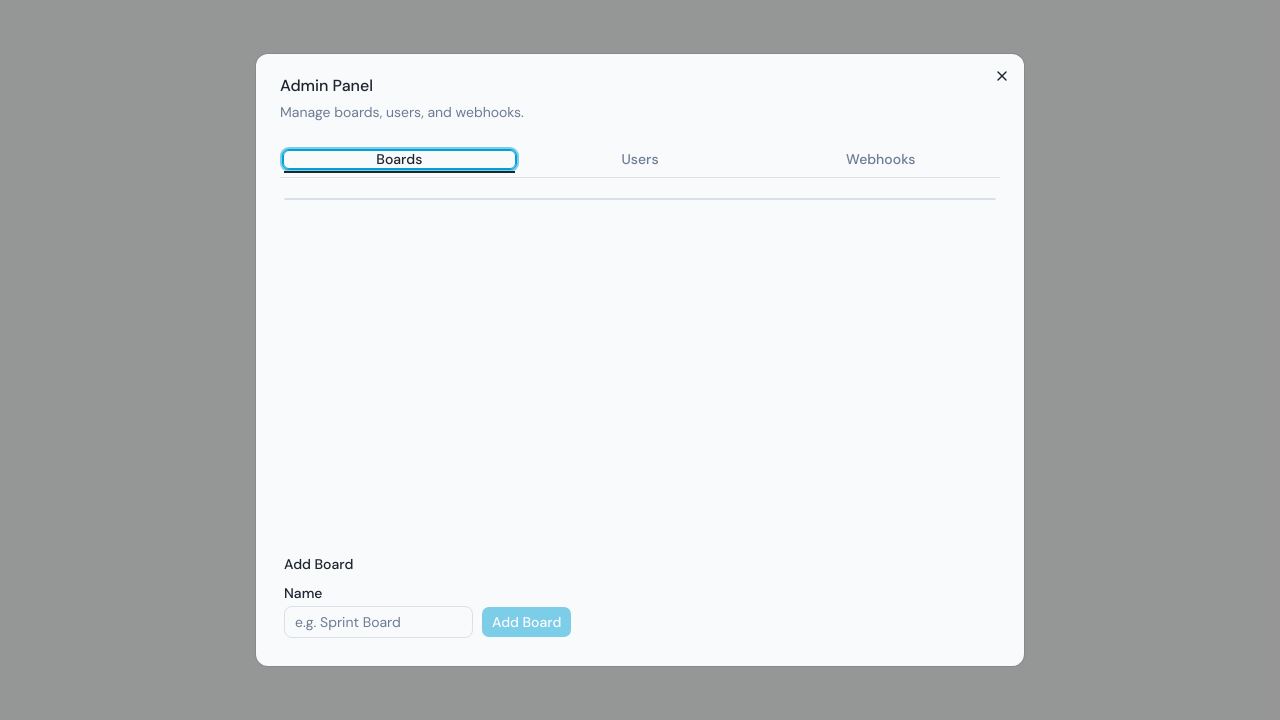
Test: GlobalAdminPanel — UsersTab edit flow › clicking edit reveals the name input pre-filled with current name
This screenshot has width=1280, height=720.
Click the tab "Users" at (640, 159), box [524,150,756,168]
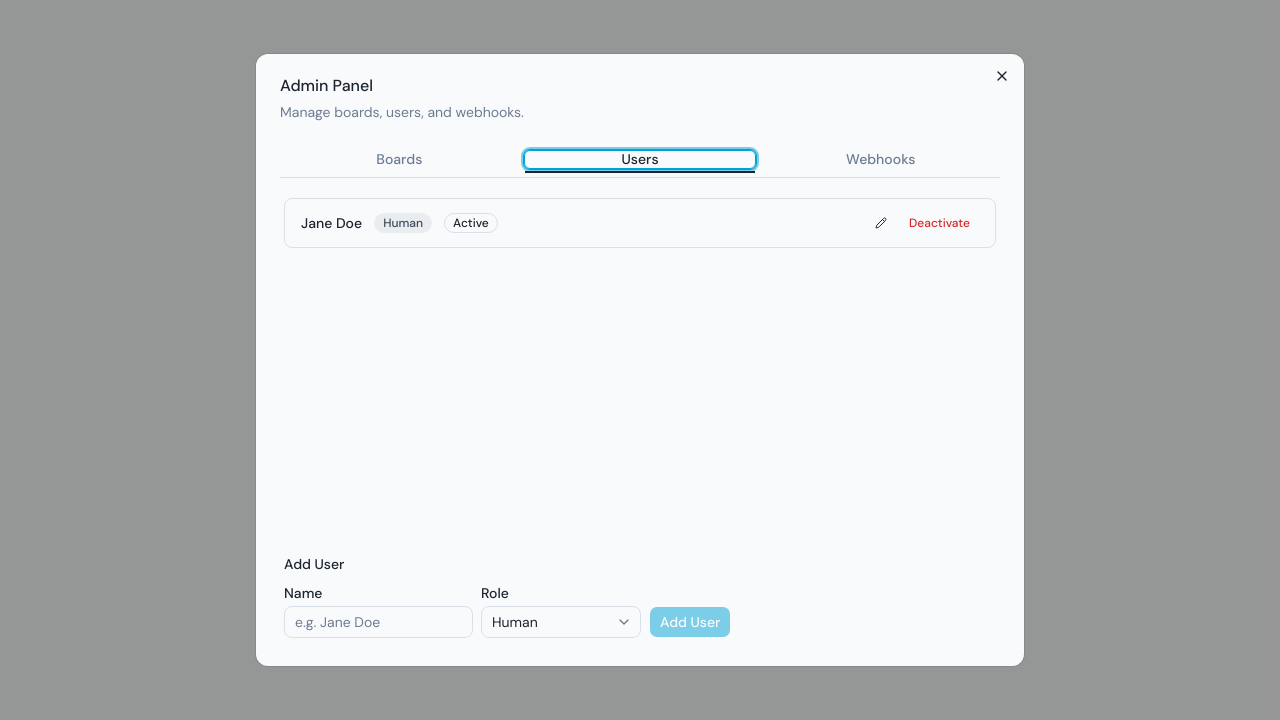
Now the text "Jane Doe" is shown, box [301,213,362,233]
Click the button named "edit jane doe" at (881, 223), box [866,211,896,235]
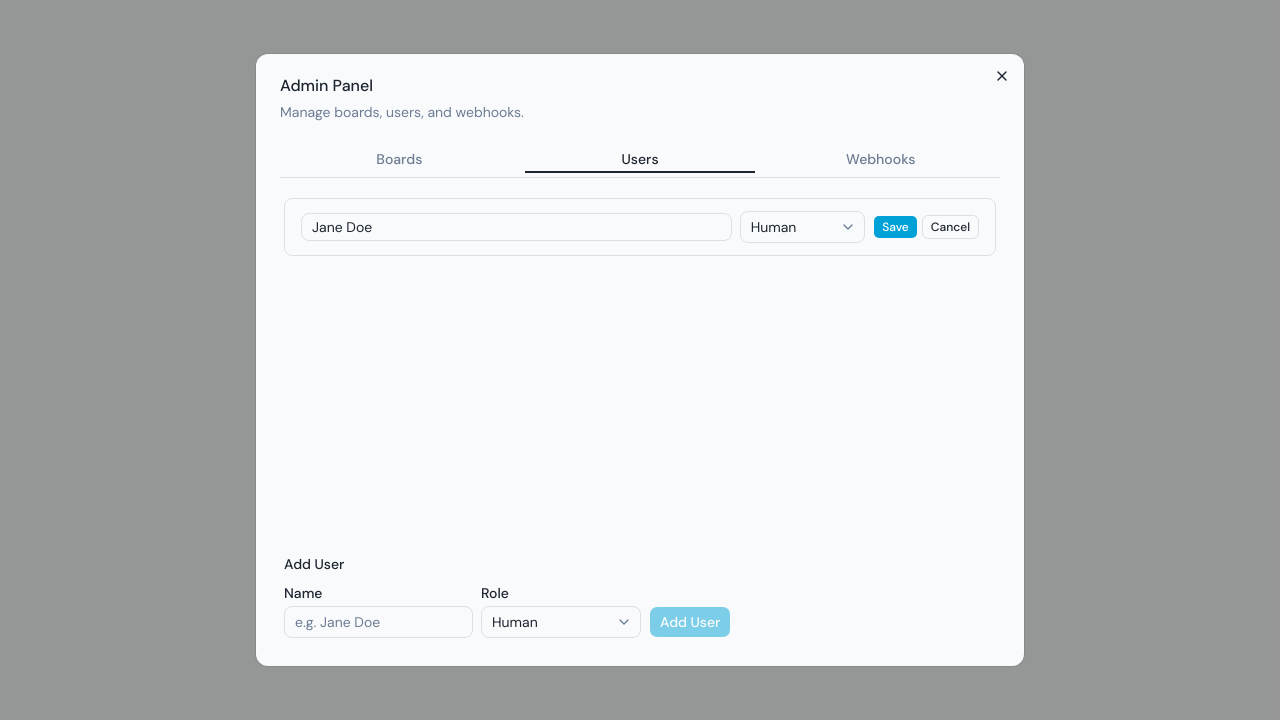
Now the field named "user name" holds "Jane Doe", box [301,213,732,241]
